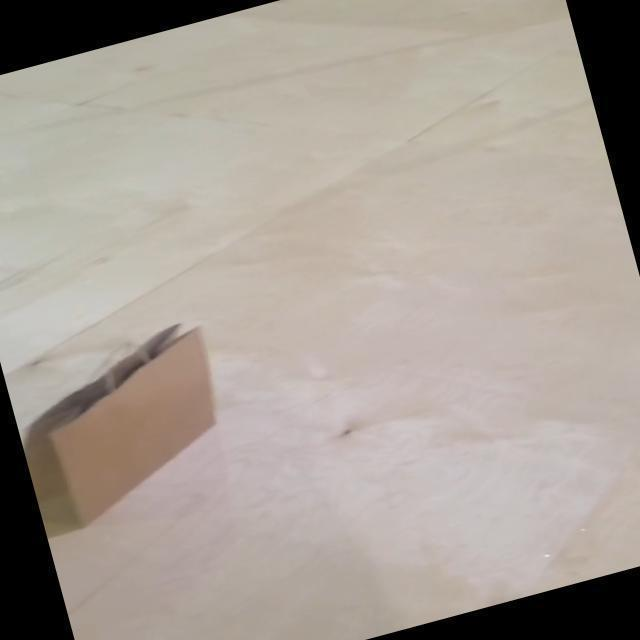Paper_Bag: (2, 316, 246, 537)
